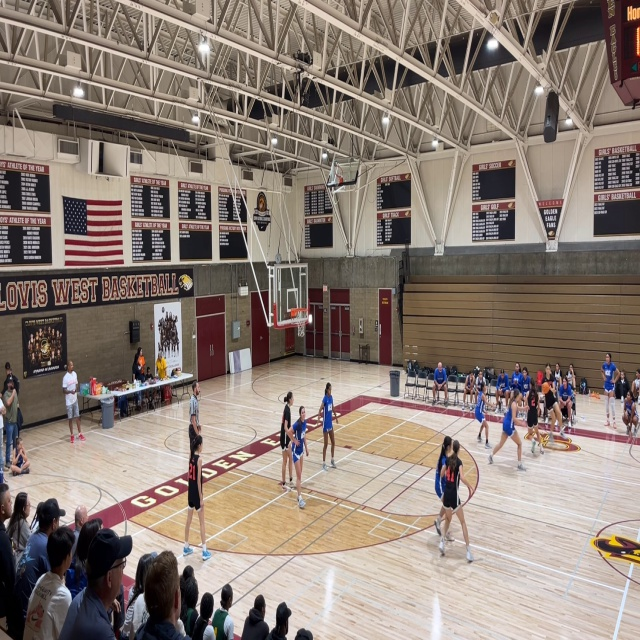Basketball: (542, 382, 550, 394)
